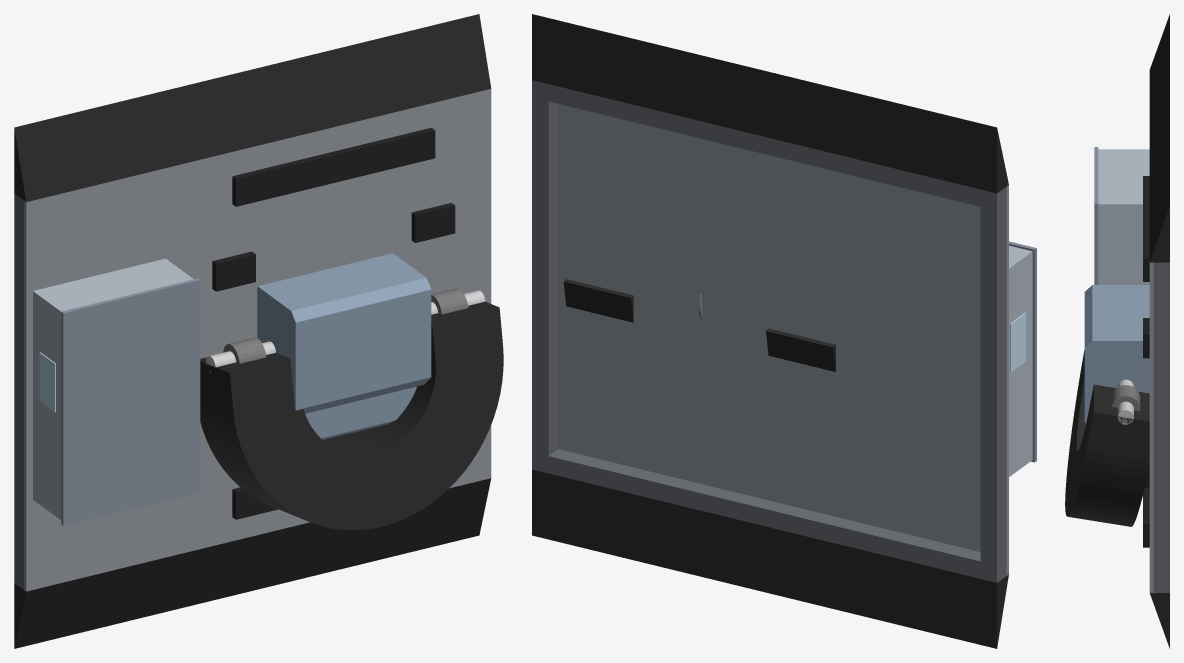
File: PARKFNB_V2_Assembly_3D_arch_0deg.obj
3 renders of one model, left to right at view 1: azimuth 30°, elevation 25°; view 2: azimuth 150°, elevation 25°; view 3: azimuth 270°, elevation 25°, orthographic. The views are drawn at different scales.
Parts seen in each view (by area): view 1: deck, rubber_ramp, arch_tyre, elec_box_lid, drive_cover, rest_block, elec_box, frame, arch_bracket, rf_window, shaft; view 2: deck, rubber_ramp, frame, elec_box, arch_tyre, elec_box_lid, rf_window; view 3: arch_tyre, drive_cover, elec_box, frame, rubber_ramp, deck, rest_block, elec_box_lid, arch_bracket, shaft.
Boxes of the visible parts, x1,y1,x2,y2 form: deck: (24,89,491,591); rubber_ramp: (14,14,491,648); arch_tyre: (200,301,503,530); elec_box_lid: (61,278,200,525); drive_cover: (257,253,431,439); rest_block: (212,127,455,519); elec_box: (33,258,193,519); frame: (14,194,23,589); arch_bracket: (223,288,468,363); rf_window: (39,352,55,412); shaft: (206,290,485,373); deck: (558,104,1008,575); rubber_ramp: (532,14,1008,648); frame: (532,80,1006,582); elec_box: (1009,245,1032,476); arch_tyre: (563,279,835,371); elec_box_lid: (1009,241,1036,462); rf_window: (1010,312,1026,372); arch_tyre: (1065,350,1149,526); drive_cover: (1084,285,1149,423); elec_box: (1098,149,1149,284); frame: (1153,262,1169,592); rubber_ramp: (1149,14,1169,648); deck: (1149,262,1153,592); rest_block: (1143,176,1149,547); elec_box_lid: (1094,147,1098,284); arch_bracket: (1112,385,1140,411); shaft: (1118,379,1133,424).
Bounding box in the file's own units: 700 × 750 × 161.
